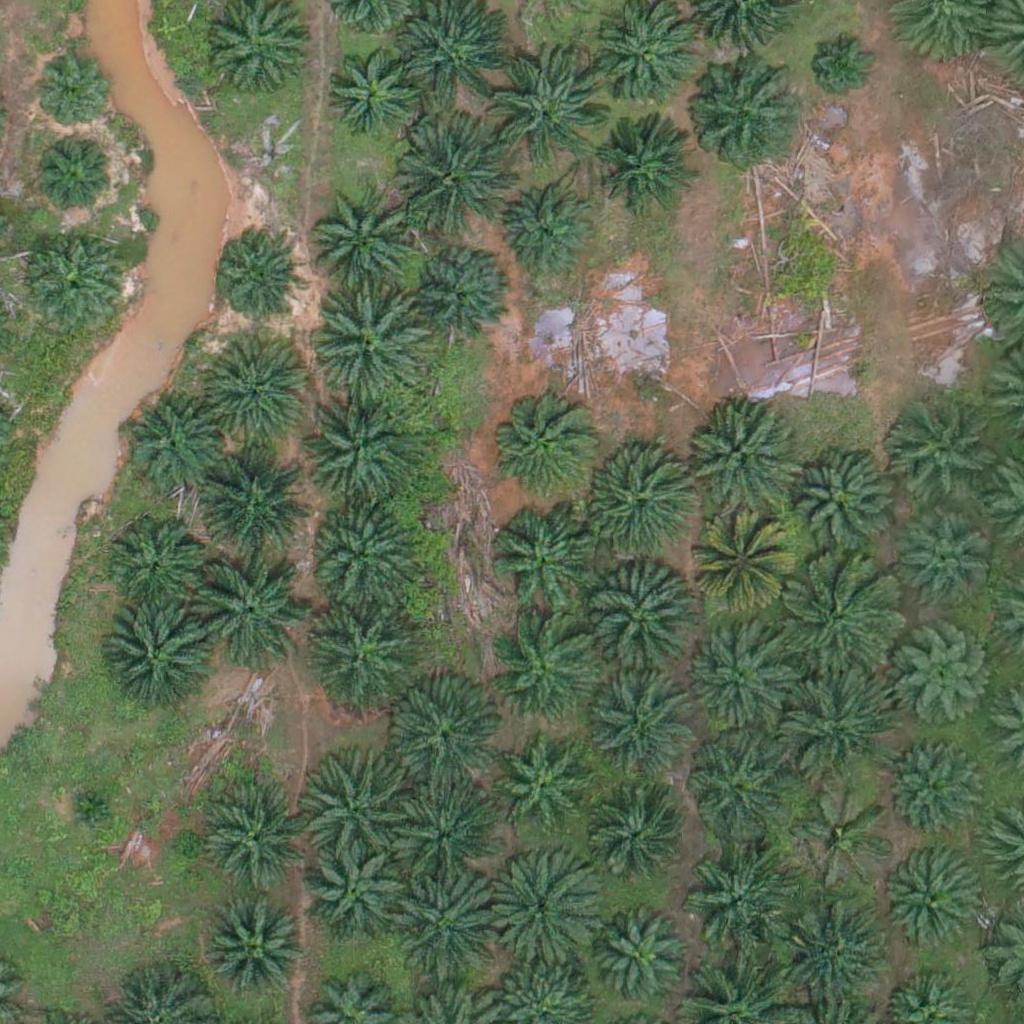Kelapa_Sawit: (484, 850, 597, 964), (393, 866, 506, 980), (310, 493, 423, 607), (398, 121, 511, 235), (301, 398, 414, 512), (199, 334, 312, 448), (774, 891, 887, 1004), (778, 671, 891, 784), (782, 559, 895, 672), (585, 566, 698, 679), (487, 508, 600, 621), (98, 605, 211, 718), (781, 447, 894, 560), (490, 613, 602, 727), (488, 385, 600, 499), (198, 442, 310, 556), (682, 839, 794, 952), (391, 688, 503, 801), (302, 596, 414, 709), (302, 744, 414, 857), (190, 553, 302, 666), (881, 398, 993, 511), (684, 404, 796, 517), (574, 448, 686, 561), (687, 62, 799, 175), (491, 51, 603, 164), (312, 175, 424, 288), (316, 289, 428, 402), (885, 736, 985, 837), (882, 852, 982, 953), (683, 625, 783, 726), (685, 737, 785, 838), (591, 682, 691, 783), (492, 737, 592, 838), (304, 842, 404, 943), (105, 515, 205, 616), (408, 242, 508, 343), (322, 38, 422, 139), (24, 227, 124, 328), (124, 395, 224, 496), (888, 631, 988, 731), (794, 787, 894, 887), (689, 519, 789, 619), (583, 796, 683, 896), (394, 785, 494, 885), (205, 793, 305, 893), (206, 902, 306, 1002), (594, 115, 694, 215), (497, 188, 597, 288), (596, 916, 684, 1005), (901, 521, 988, 609), (212, 228, 299, 316), (31, 130, 118, 218), (34, 57, 109, 133), (805, 25, 880, 100), (63, 780, 113, 831)
